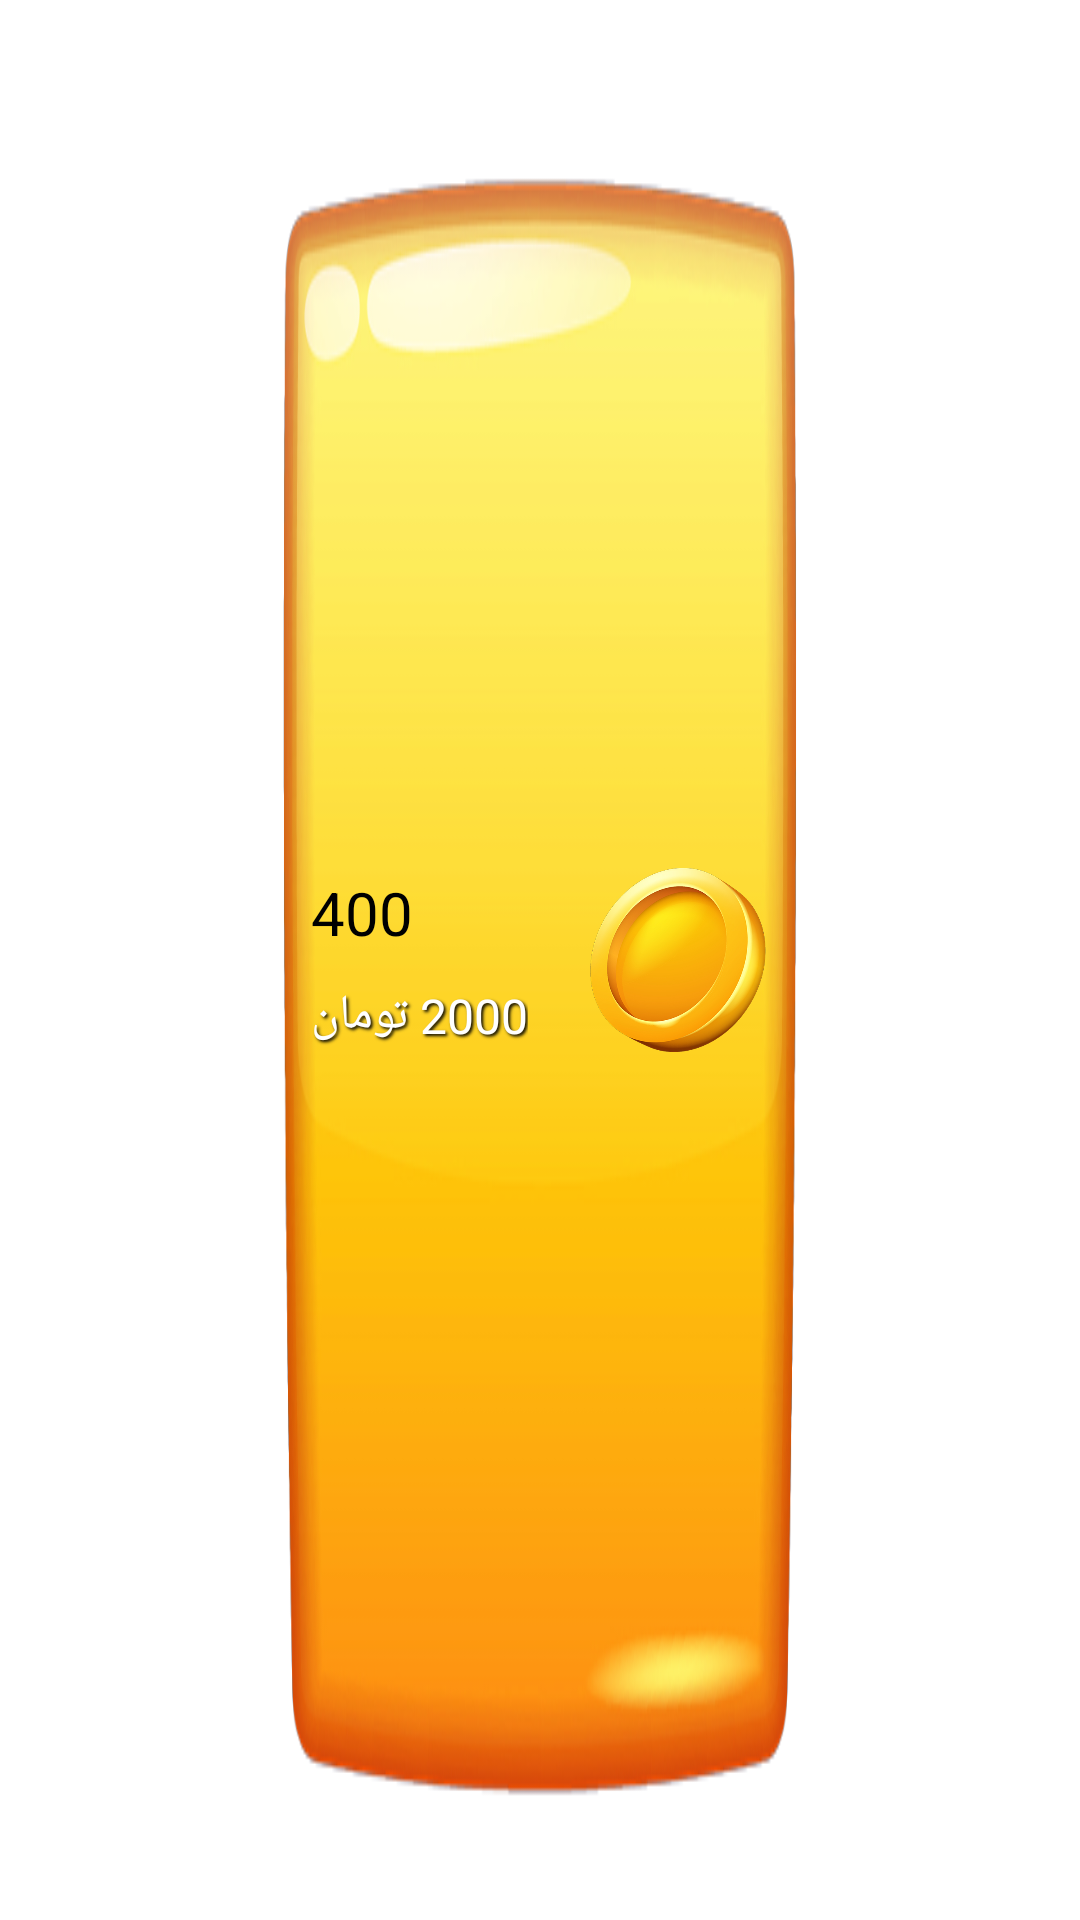

Icons on this 1080w x 1920h Android screen, each with the point to tap as (x,y):
coin: (678,960)
